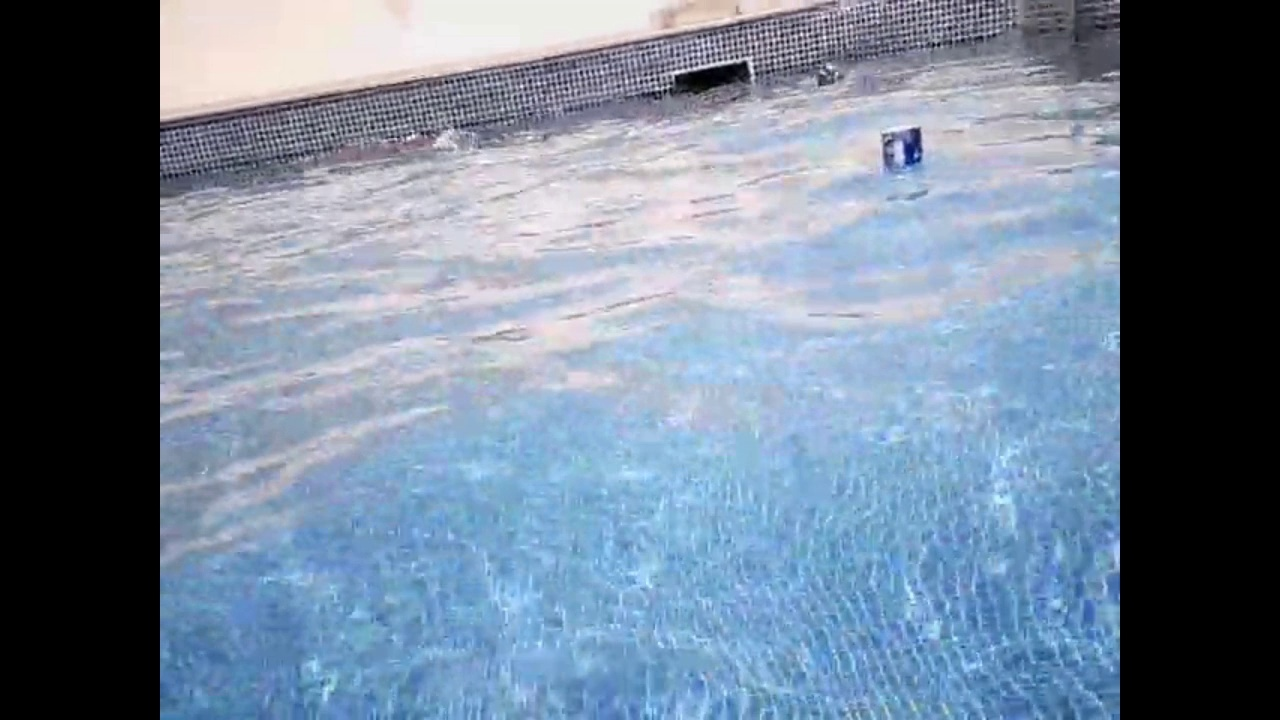debris: (876, 121, 934, 180), (814, 62, 846, 87)
